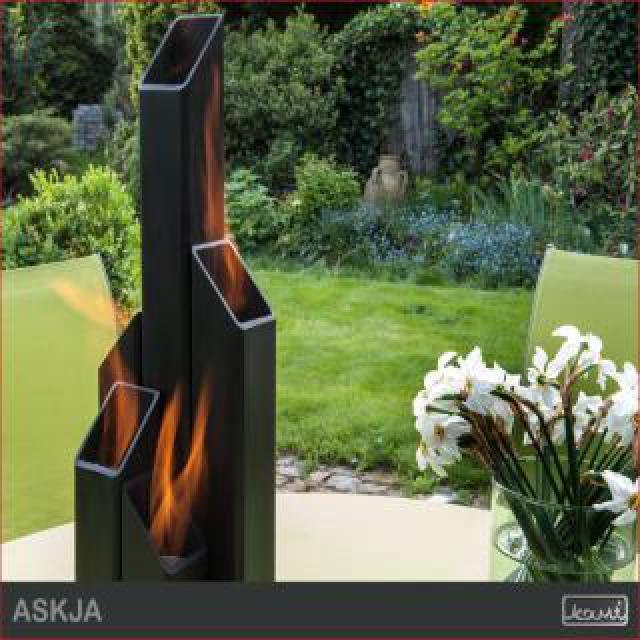zfire: (48, 242, 144, 460), (196, 80, 248, 322), (142, 388, 216, 554)
